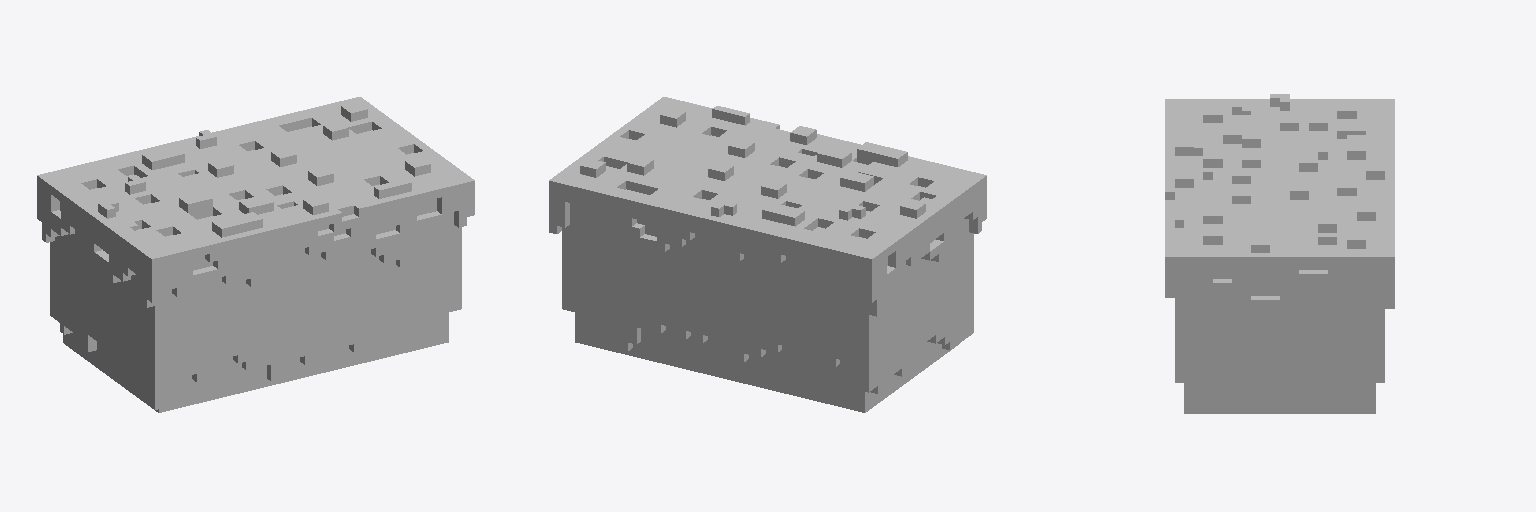
File: boloto (2)-3.obj
3 views of the same model, side by side, from view 1: azimuth 30°, elevation 25°; view 2: azimuth 150°, elevation 25°; view 3: azimuth 270°, elevation 25° (orthographic).
Parts seen in each view (by area): view 1: object 1; view 2: object 1; view 3: object 1.
Boxes of the visible parts, <box> form: object 1: <box>37,97,474,412</box>; object 1: <box>549,97,986,412</box>; object 1: <box>1165,94,1394,413</box>.
Bounding box in the file's own units: 3.9 × 2 × 2.4.